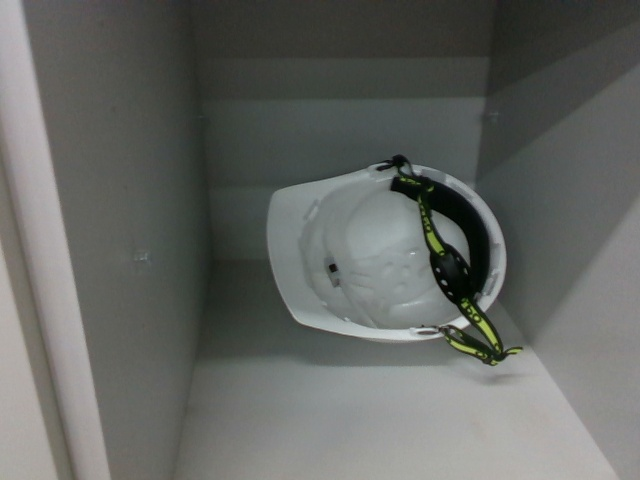helmet: (262, 156, 510, 343)
